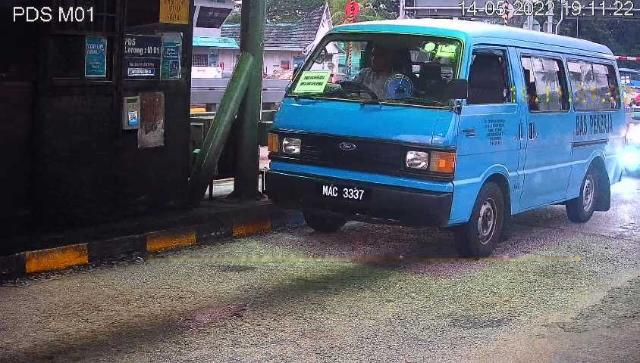License_Plate: (317, 185, 373, 208)
van: (267, 20, 628, 259)
